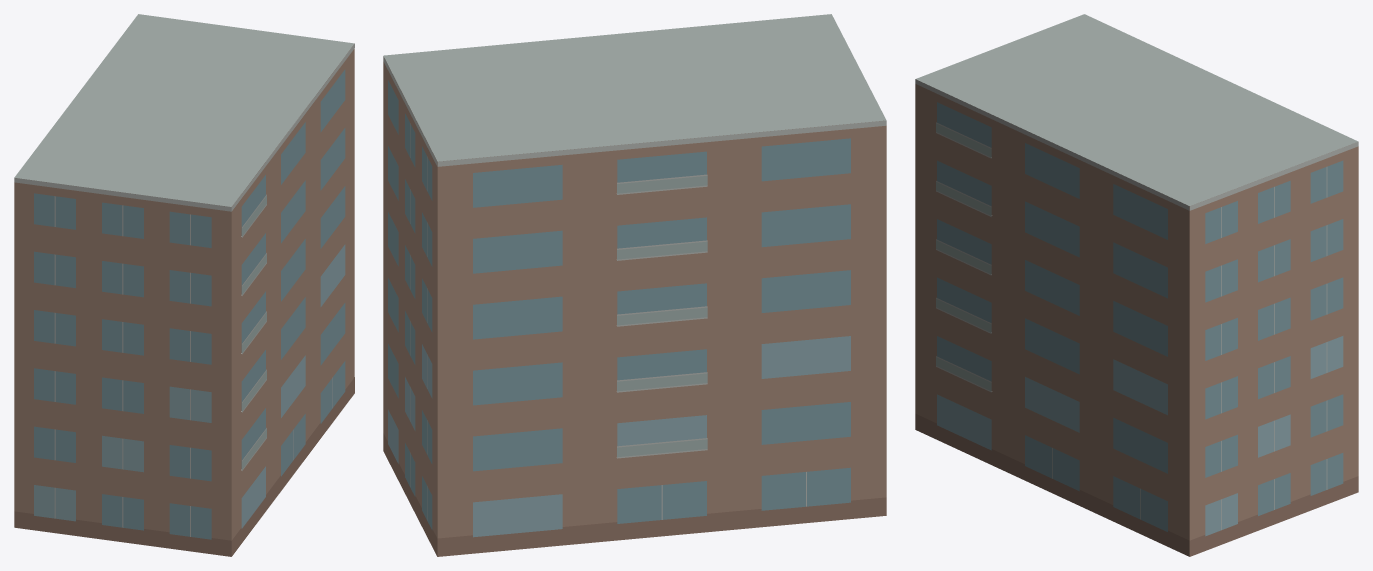
Rendered from survey-upis-32838536.glb.
3 views of the same model, side by side, from view 1: azimuth 30°, elevation 25°; view 2: azimuth 150°, elevation 25°; view 3: azimuth 270°, elevation 25° (orthographic). The views are drawn at different scales.
Parts seen in each view (by area): view 1: survey-upis-32838536.tmp; view 2: survey-upis-32838536.tmp; view 3: survey-upis-32838536.tmp.
Boxes of the visible parts, x1,y1,x2,y2 form: survey-upis-32838536.tmp: [14, 14, 354, 556]; survey-upis-32838536.tmp: [383, 14, 886, 556]; survey-upis-32838536.tmp: [915, 14, 1358, 556].
Bounding box in the file's own units: 21.52 × 18.3 × 20.97.
